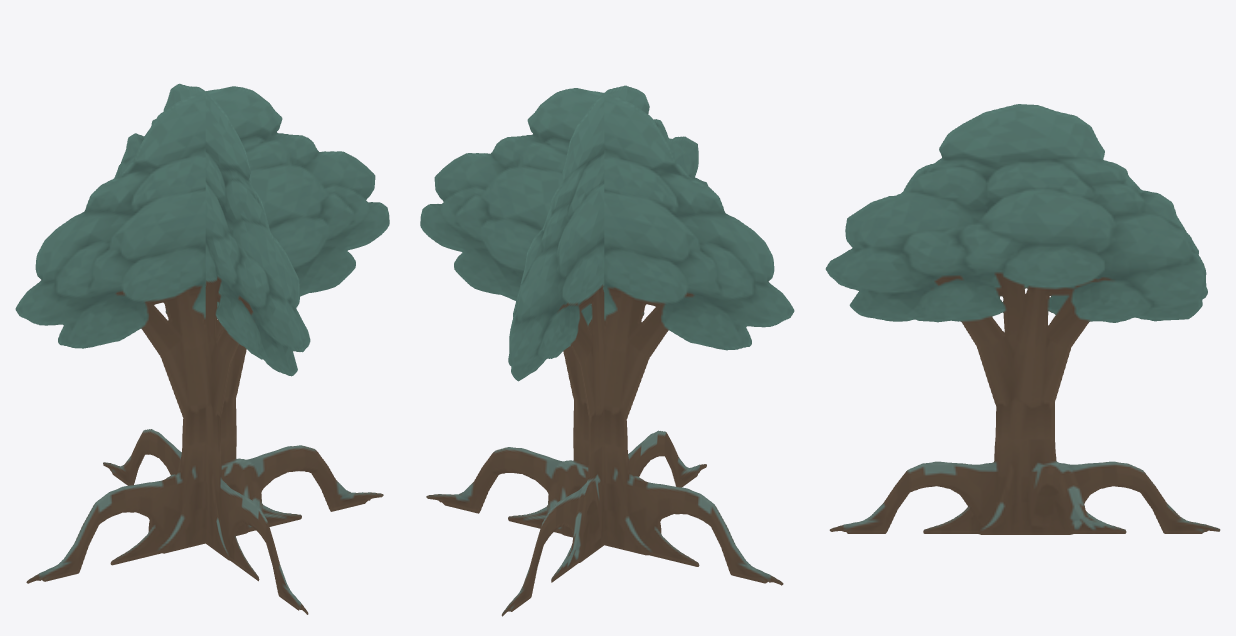
File: tree_ancient_far.glb
The picture shows the model from 3 angles, left to right: view 1: azimuth 30°, elevation 25°; view 2: azimuth 150°, elevation 25°; view 3: azimuth 270°, elevation 25°; orthographic projection. The views are drawn at different scales.
Bounding box in the file's own units: 35.54 × 41 × 34.13.
Materials: 1 (1 with a texture image).
